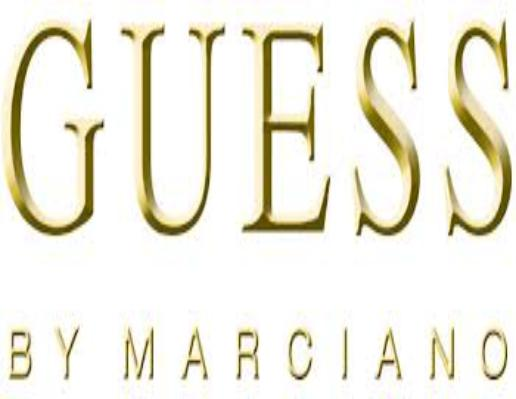GUESS: (2, 11, 516, 243)
